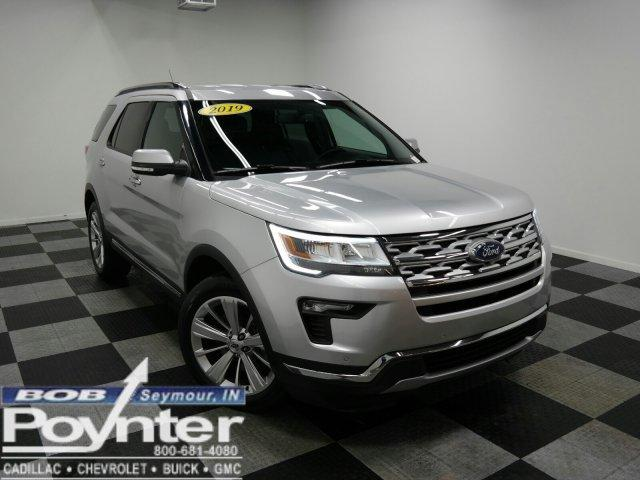Ford Explorer: (80, 76, 558, 408)
